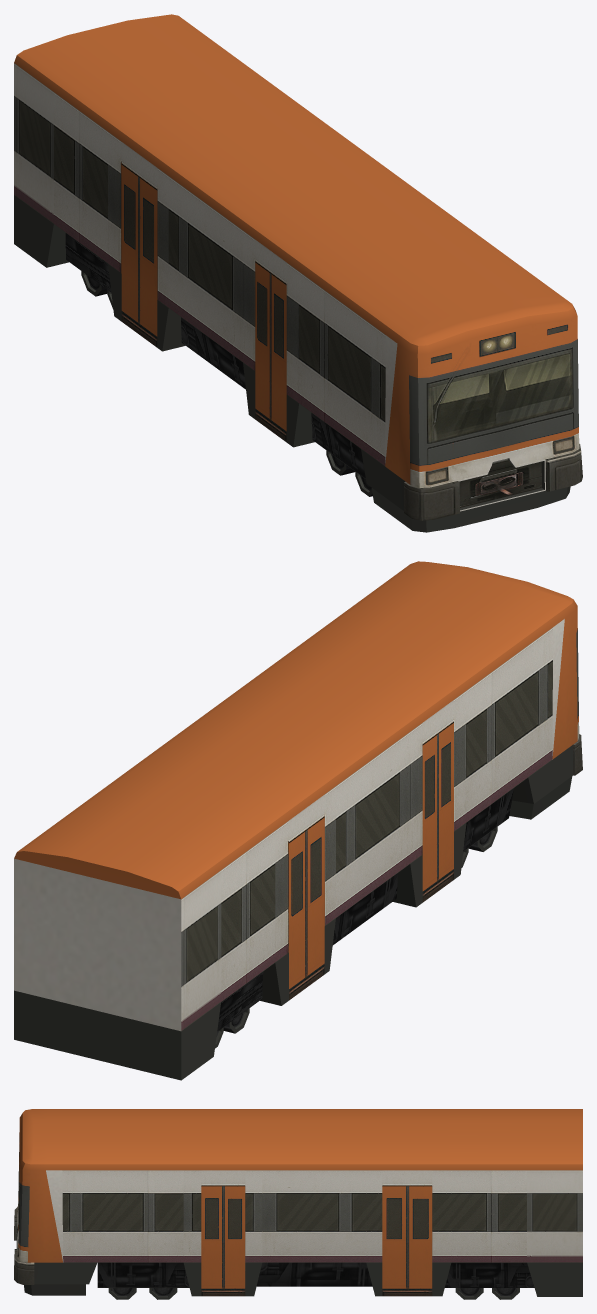
3 renders of one model, top to bottom at view 1: azimuth 30°, elevation 25°; view 2: azimuth 150°, elevation 25°; view 3: azimuth 270°, elevation 25°, orthographic. The views are drawn at different scales.
Parts seen in each view (by area): view 1: 470; view 2: 470; view 3: 470.
Part boxes in pixels (box(x1,y1,x2,y2)): 470: box(14, 14, 582, 532); 470: box(14, 561, 582, 1080); 470: box(14, 1109, 582, 1299).
Bounding box in the file's own units: 2.12 × 2.49 × 8.71.
Materials: 1 (1 with a texture image).
